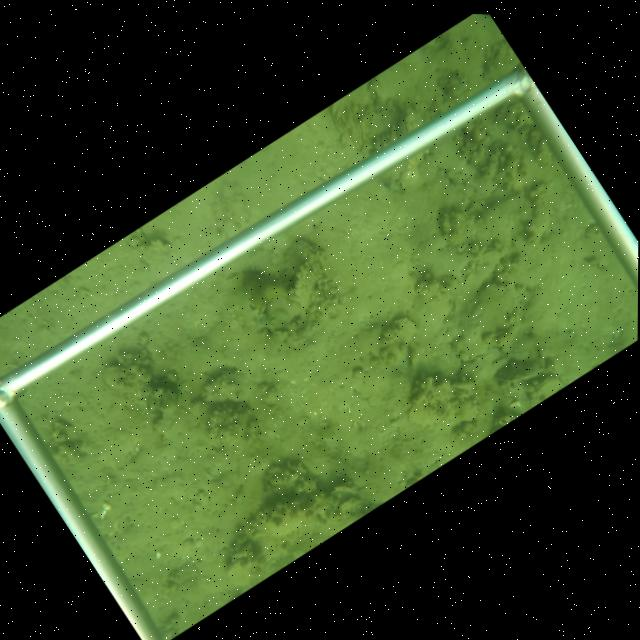Oyster-Closed: (493, 357, 548, 386), (262, 294, 304, 326)
Oyster-Indeterminate: (102, 362, 137, 392)
